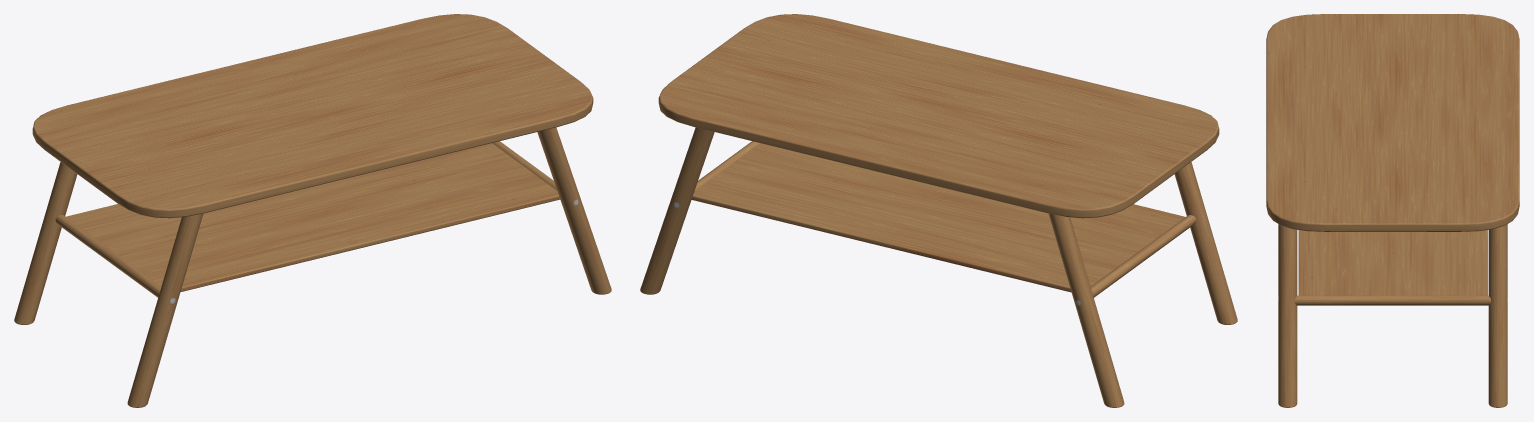
Rendered from table1.glb.
3 views of the same model, side by side, from view 1: azimuth 30°, elevation 25°; view 2: azimuth 150°, elevation 25°; view 3: azimuth 270°, elevation 25° (orthographic). The views are drawn at different scales.
Visible parts, largest first — view 1: coffee_table; view 2: coffee_table; view 3: coffee_table.
Boxes of the visible parts, left/top/right/bottom form: coffee_table: left=14, top=14, right=611, bottom=407; coffee_table: left=640, top=14, right=1237, bottom=407; coffee_table: left=1266, top=14, right=1519, bottom=407.
Bounding box in the file's own units: 0.8146 × 0.3144 × 0.4.
1 material, 1 textured.
